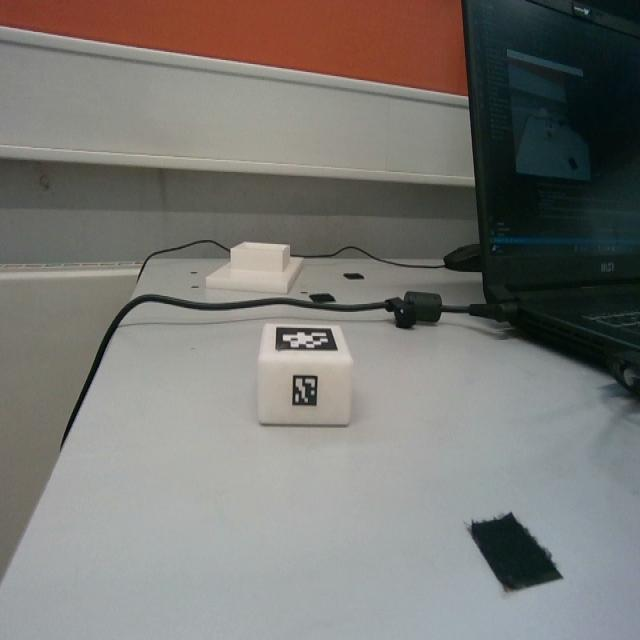Cube: (256, 319, 352, 425)
